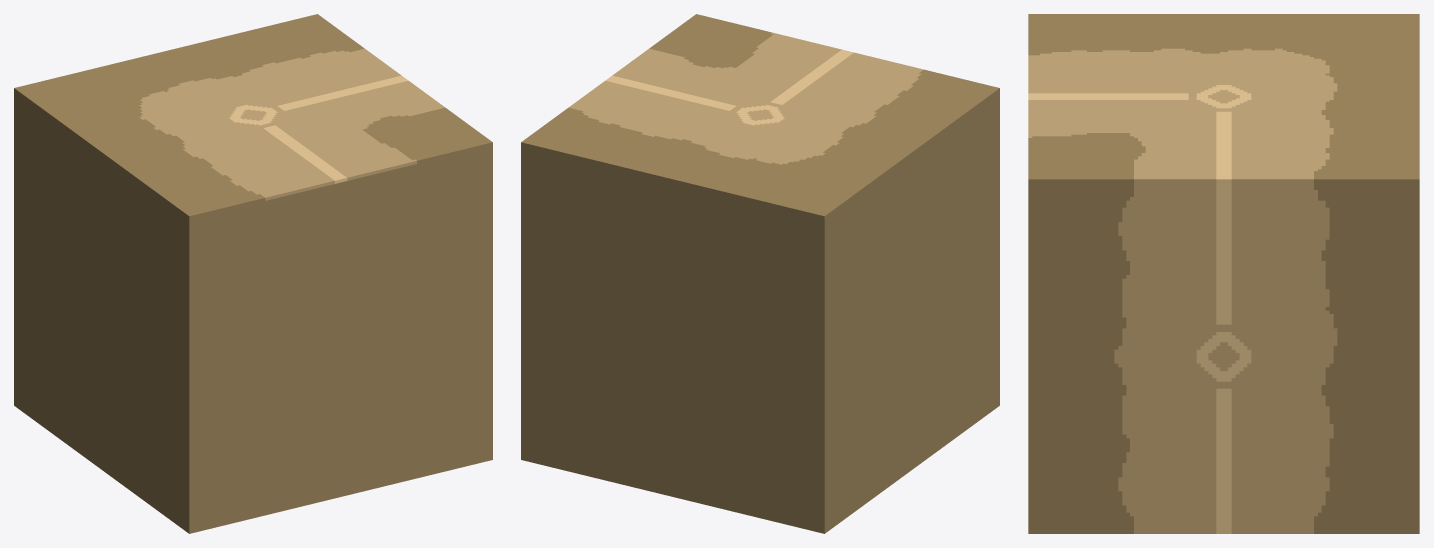
Rendered from floor2b_wallx2a.obj.
The picture shows the model from 3 angles, left to right: view 1: azimuth 30°, elevation 25°; view 2: azimuth 150°, elevation 25°; view 3: azimuth 270°, elevation 25°; orthographic projection. The views are drawn at different scales.
Visible parts, largest first — view 1: floor2b_wallx2a; view 2: floor2b_wallx2a; view 3: floor2b_wallx2a.
Part boxes in pixels (<box>): floor2b_wallx2a: <box>14,14,492,533</box>; floor2b_wallx2a: <box>521,14,999,533</box>; floor2b_wallx2a: <box>1028,14,1419,533</box>.
Size of the model in its own units: 100 by 100 by 100.
1 material, 1 textured.
